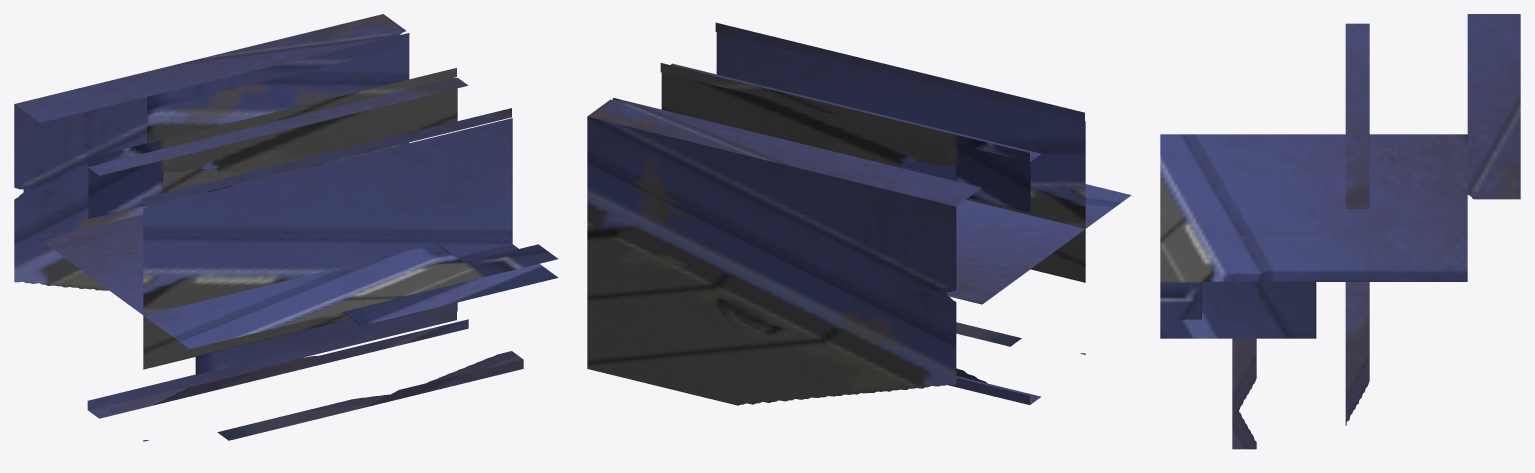
3 views of the same model, side by side, from view 1: azimuth 30°, elevation 25°; view 2: azimuth 150°, elevation 25°; view 3: azimuth 270°, elevation 25° (orthographic). The views are drawn at different scales.
Size of the model in its own units: 1.24 by 0.8101 by 1.02.
